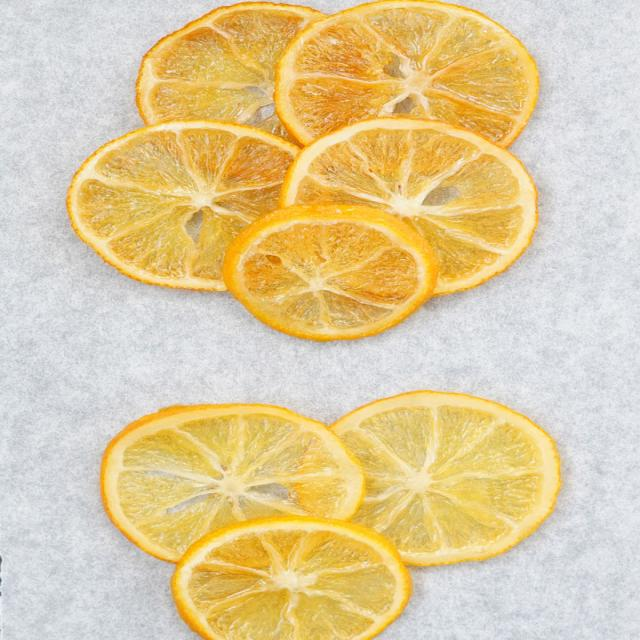lemon: (372, 388, 567, 560), (86, 401, 350, 521), (290, 0, 551, 118), (173, 520, 409, 640), (226, 207, 432, 340), (78, 125, 235, 288)
